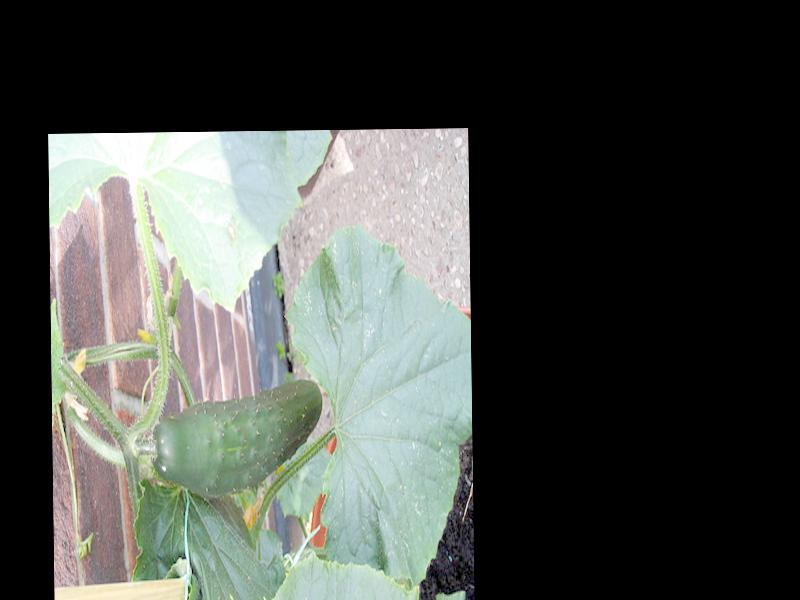Cucumber: (151, 376, 323, 496)
